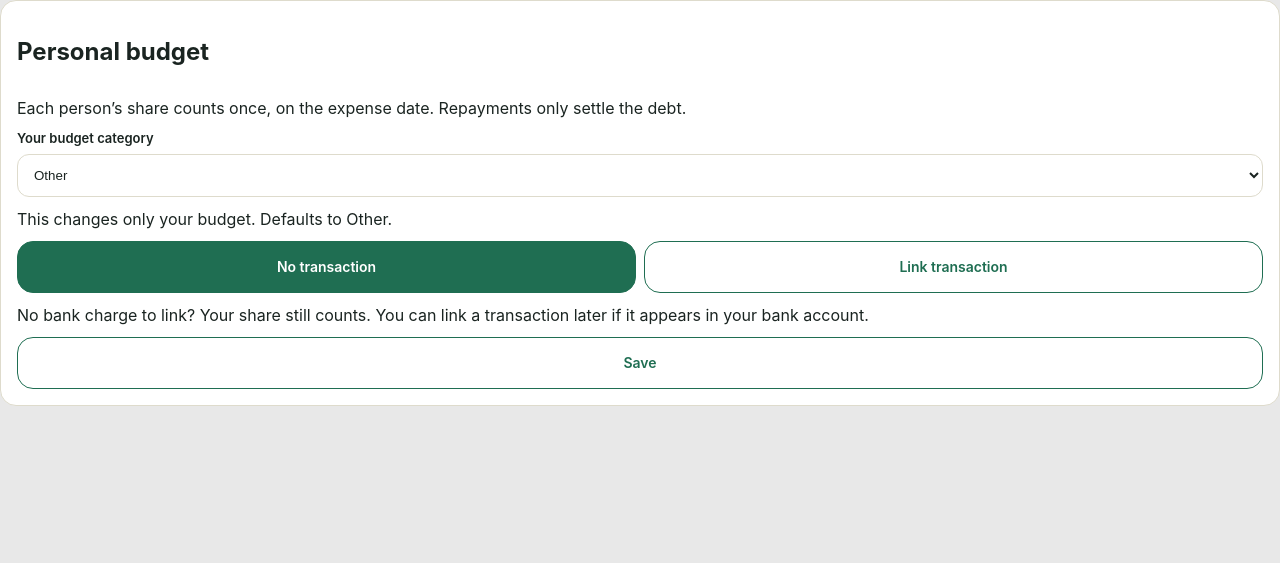
explains why no charges are available
Click the button "Link transaction" at (954, 267), box [644, 241, 1263, 293]
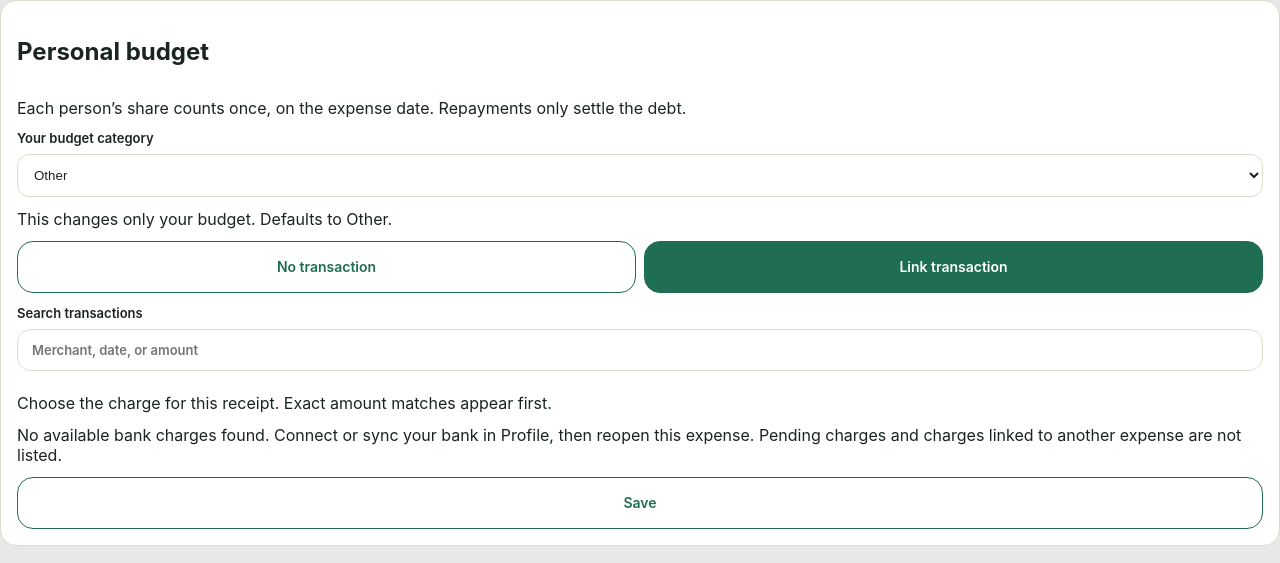
Expected: the text "No available bank charges found" is shown, [17, 425, 1241, 465]
